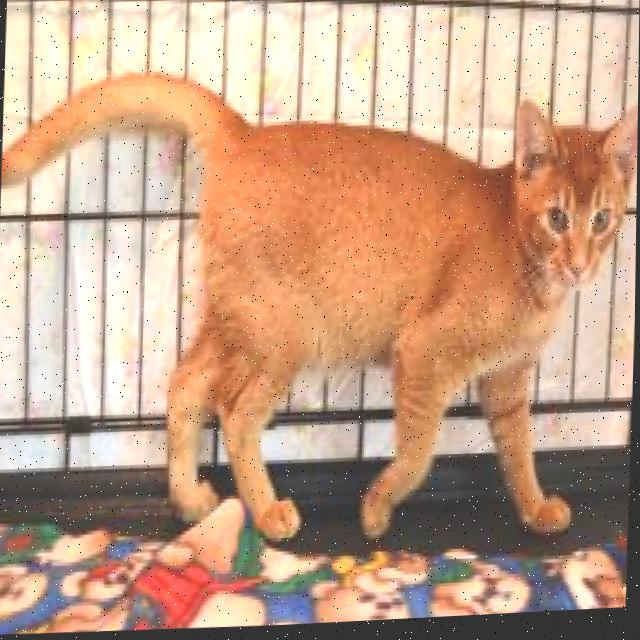Abyssinian: (0, 43, 639, 568)
